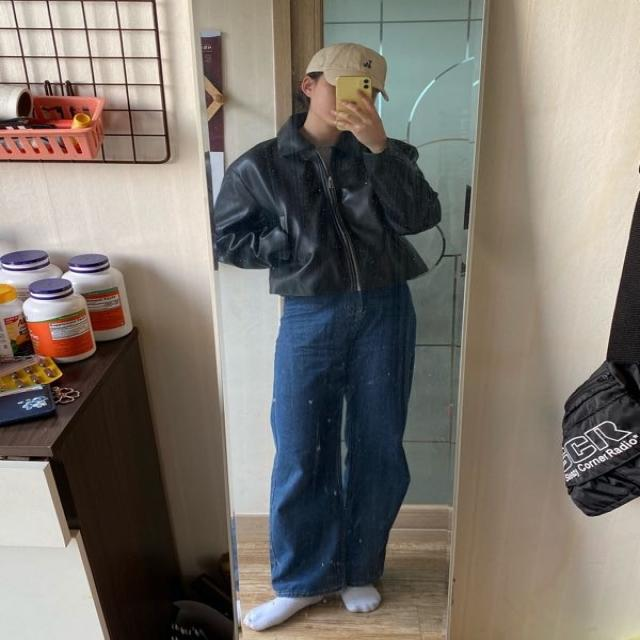denimpants: (266, 281, 418, 598)
jacket: (214, 111, 438, 296)
